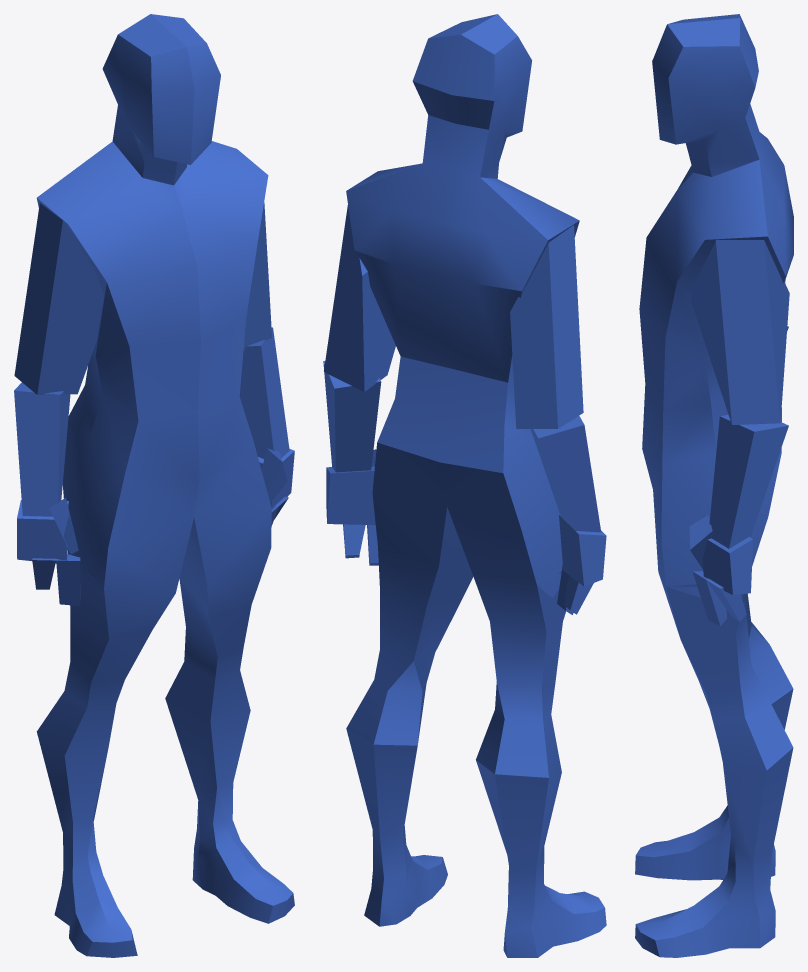
File: HumanScale.fbx
3 renders of one model, left to right at view 1: azimuth 30°, elevation 25°; view 2: azimuth 150°, elevation 25°; view 3: azimuth 270°, elevation 25°, orthographic.
Parts seen in each view (by area): view 1: HumanScale; view 2: HumanScale; view 3: HumanScale.
Part boxes in pixels (bbox=[...]): HumanScale: bbox=[14, 14, 294, 957]; HumanScale: bbox=[323, 14, 606, 957]; HumanScale: bbox=[635, 14, 793, 957].
Bounding box in the file's own units: 65.72 × 200 × 32.48.
